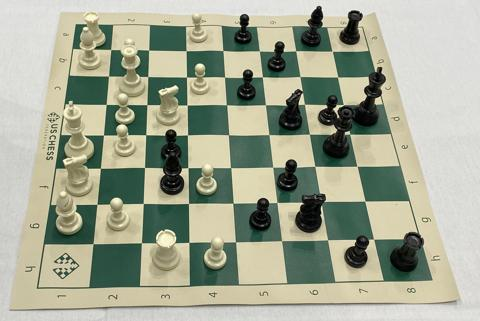xcorner: (328, 46, 339, 57), (292, 45, 303, 56), (255, 45, 266, 56), (218, 45, 229, 56), (181, 44, 192, 55), (143, 44, 154, 55), (105, 44, 116, 55), (334, 71, 345, 82), (296, 71, 307, 82), (258, 71, 269, 82), (181, 70, 192, 81), (142, 70, 153, 81), (103, 70, 114, 81), (340, 99, 351, 110), (301, 99, 312, 110), (261, 98, 272, 109), (222, 98, 233, 109), (182, 98, 193, 109), (141, 98, 152, 109), (100, 98, 111, 109), (346, 128, 357, 139), (306, 128, 317, 139), (265, 128, 276, 139), (224, 128, 235, 139), (182, 128, 193, 139), (140, 129, 151, 140), (97, 129, 108, 140), (353, 160, 364, 171), (311, 161, 322, 172), (269, 161, 280, 172), (226, 161, 237, 172), (182, 161, 193, 172), (139, 161, 150, 172), (94, 162, 105, 173), (361, 195, 372, 206), (273, 196, 284, 207), (228, 196, 239, 207), (183, 197, 194, 208), (137, 197, 148, 208), (91, 198, 102, 209), (369, 233, 380, 244), (324, 234, 335, 245), (277, 234, 288, 245), (231, 235, 242, 246), (183, 235, 194, 246), (135, 236, 146, 247), (87, 237, 98, 248), (220, 71, 231, 81), (317, 196, 328, 206)
